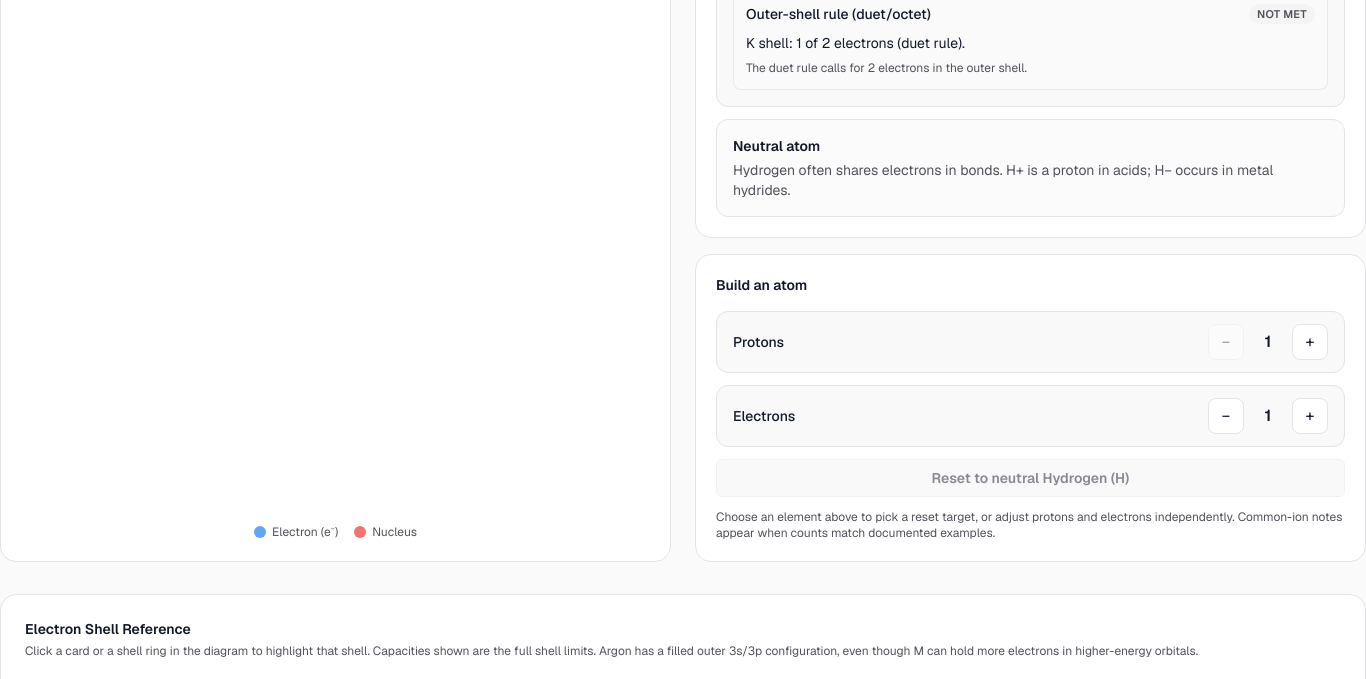
Bohr atom builder › keeps electrons when protons change and keeps protons when electrons change
The width and height of the screenshot is (1366, 679).
(page scrolled)
Expected: the text named "Protons: 1" is shown, [1265, 330, 1271, 352]
Expected: the text named "Electrons: 1" is shown, [1265, 404, 1271, 426]
Click the button named "Add a proton": click(1310, 342) [1292, 324, 1328, 360]
(page scrolled)
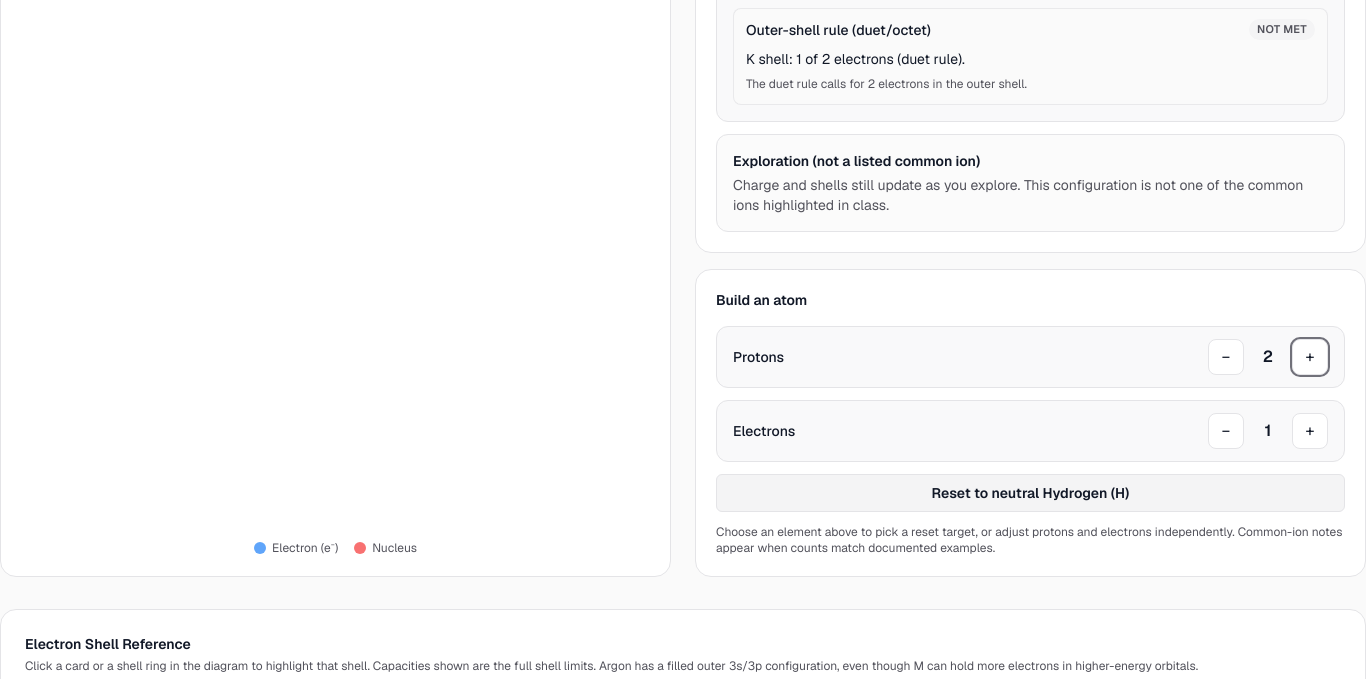
Expected: the text named "Electrons: 1" is shown, [1265, 420, 1271, 441]
Expected: the text named "Protons: 2" is shown, [1263, 346, 1273, 367]
Click the button named "Add an electron": click(1310, 431) [1292, 413, 1328, 449]
(page scrolled)
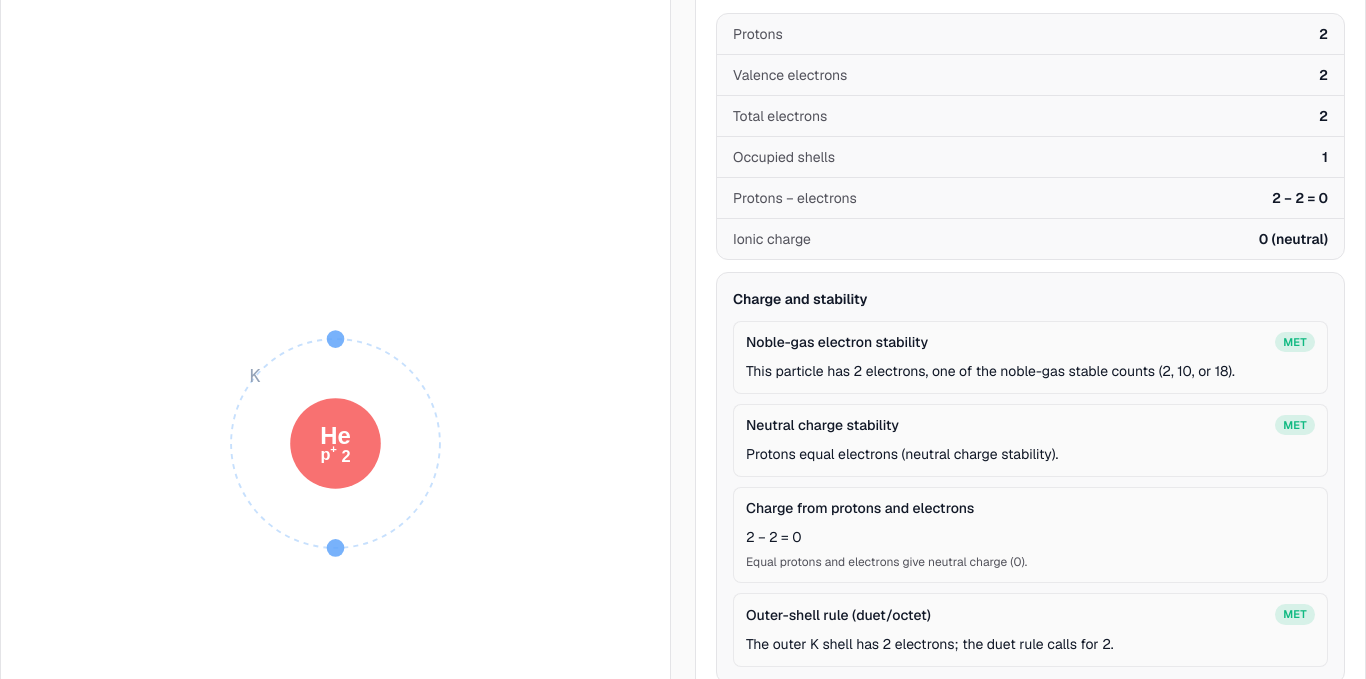
Expected: the text "Noble-gas electron stability" is shown, [746, 332, 928, 352]
Expected: the text named "Ionic charge: 0 (neutral)" is shown, [1259, 228, 1328, 248]
